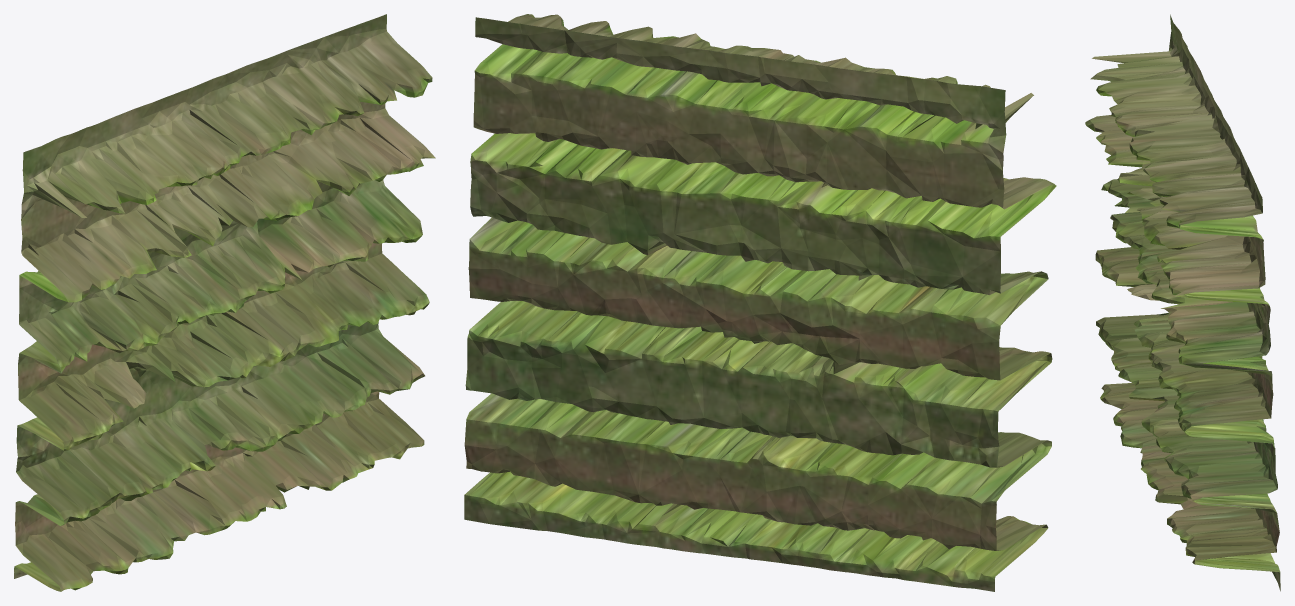
File: map_240_30.obj
The picture shows the model from 3 angles, left to right: view 1: azimuth 30°, elevation 25°; view 2: azimuth 150°, elevation 25°; view 3: azimuth 270°, elevation 25°; orthographic projection. The views are drawn at different scales.
Visible parts, largest first — view 1: grp1; view 2: grp1; view 3: grp1.
Boxes of the visible parts, x1=… form: grp1: x1=14, y1=14, x2=435, y2=591; grp1: x1=464, y1=14, x2=1056, y2=591; grp1: x1=1085, y1=14, x2=1280, y2=591.
Bounding box in the file's own units: 10 × 10 × 4.49.
1 material, 1 textured.
